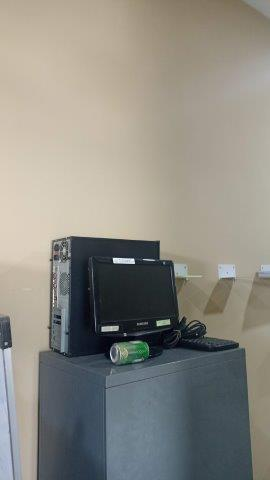kaleng: (107, 342, 150, 365)
